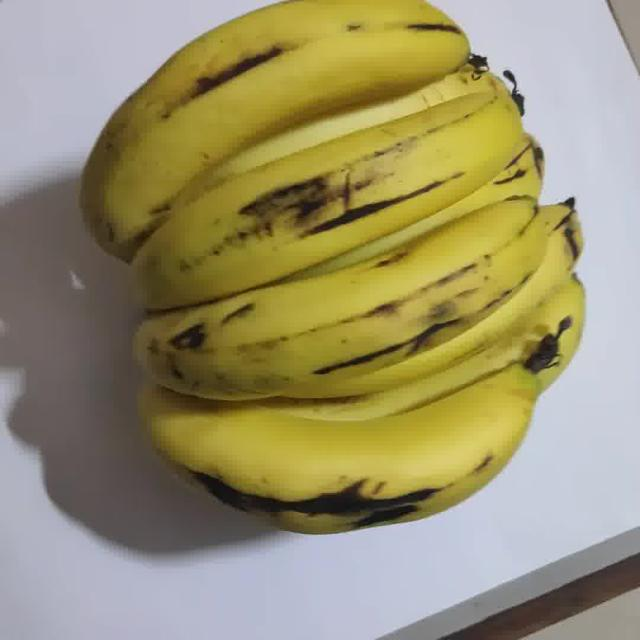banana_pacche: (12, 0, 611, 600)
